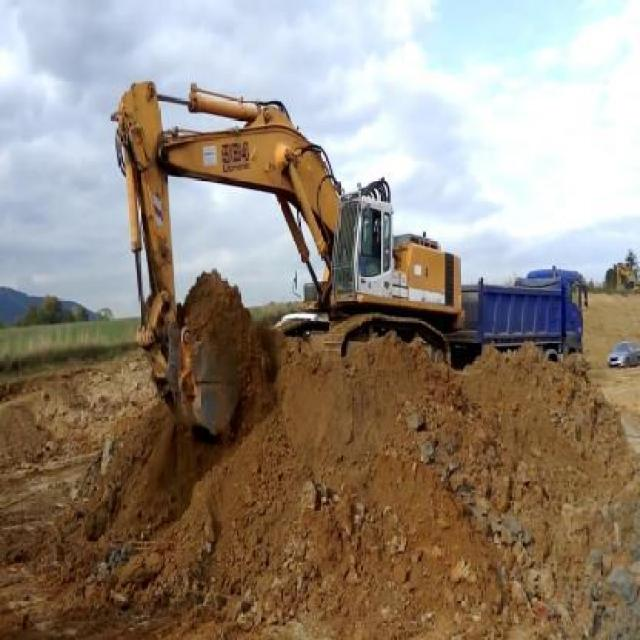Dump Truck: (454, 258, 584, 382)
Excavator: (108, 63, 464, 446)
